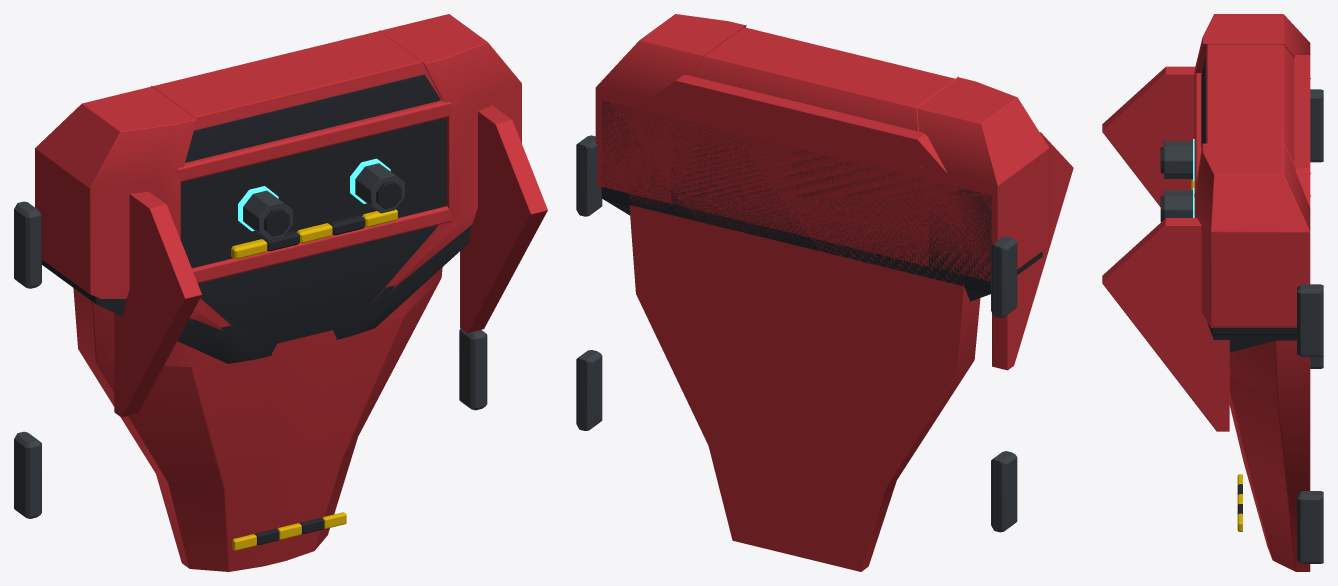
The model's file is BodyBack_Set04_Ripjaw.fbx.
The picture shows the model from 3 angles, left to right: view 1: azimuth 30°, elevation 25°; view 2: azimuth 150°, elevation 25°; view 3: azimuth 270°, elevation 25°; orthographic projection. The views are drawn at different scales.
Visible parts, largest first — view 1: BodyBack_Set04_Ripjaw; view 2: BodyBack_Set04_Ripjaw; view 3: BodyBack_Set04_Ripjaw.
Boxes of the visible parts, bbox=[...] form: BodyBack_Set04_Ripjaw: bbox=[14, 14, 547, 571]; BodyBack_Set04_Ripjaw: bbox=[576, 14, 1073, 571]; BodyBack_Set04_Ripjaw: bbox=[1102, 14, 1323, 571].
Size of the model in its own units: 1.07 by 1.1 by 0.4945.
